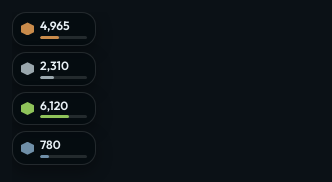
Test: ResourceBar (landscape rail) › is one line per pill by default and keeps the shared stock -> rate -> cap tap cycle
Expected: the text "4,965" is shown, [40, 18, 70, 33]
Expected: the 1st element with class "fill-track" is shown, [40, 36, 87, 39]
Step 1. Click the button with class "resource--compact" showing "4,965" → click(54, 29), box [12, 12, 96, 46]
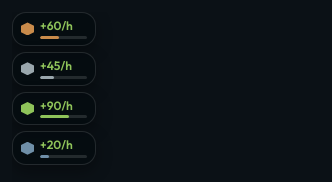
Expected: the text "+60/h" is shown, [40, 18, 73, 33]
Expected: the text "+45/h" is shown, [40, 58, 72, 73]
Step 2. Click the button with class "resource--compact" showing "+60/h" → click(54, 29), box [12, 12, 96, 46]
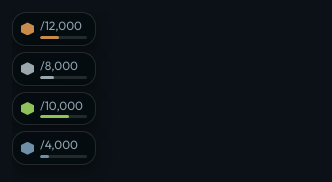
Expected: the text "/12,000" is shown, [40, 19, 87, 33]
